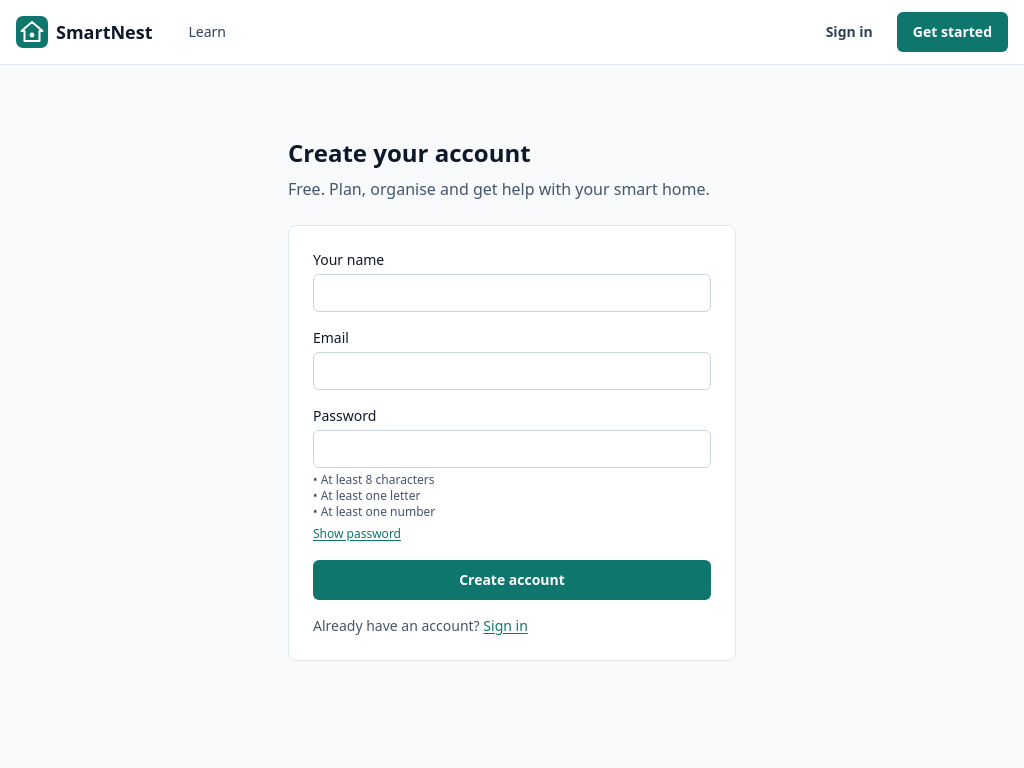
Test: sign up › validates the password rules live and on submit
Type "Asha" into the field labelled "Your name" at (512, 293), box [313,274,711,312]
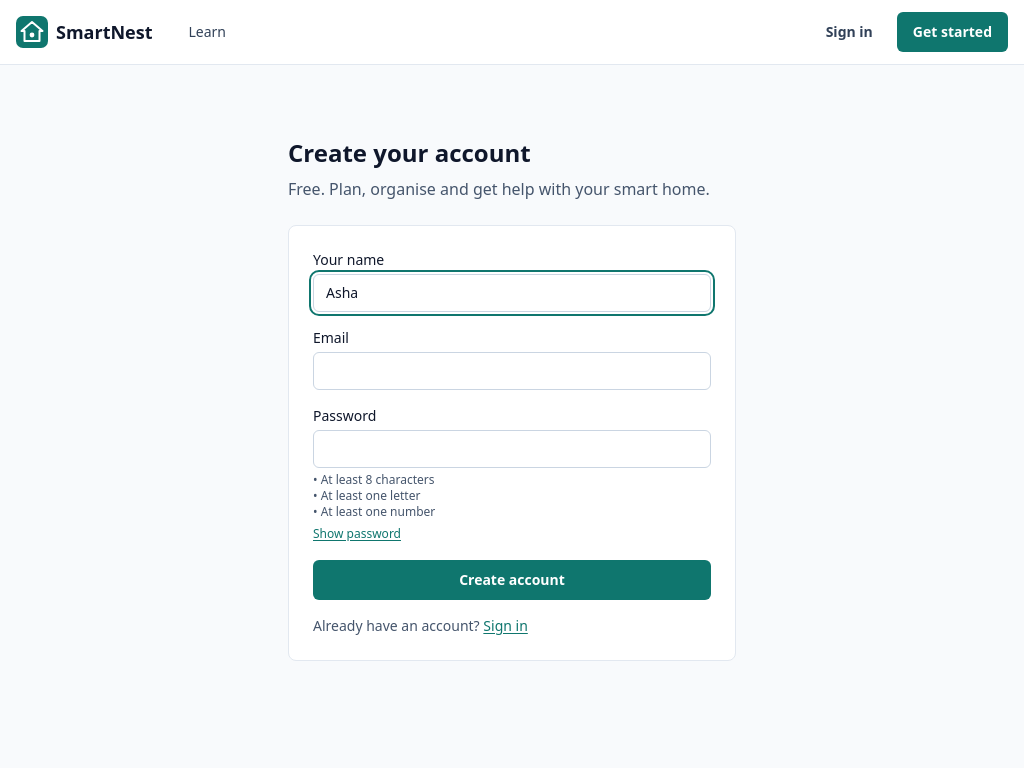
Type "asha@example.com" into the field labelled "Email" at (512, 371), box [313,352,711,390]
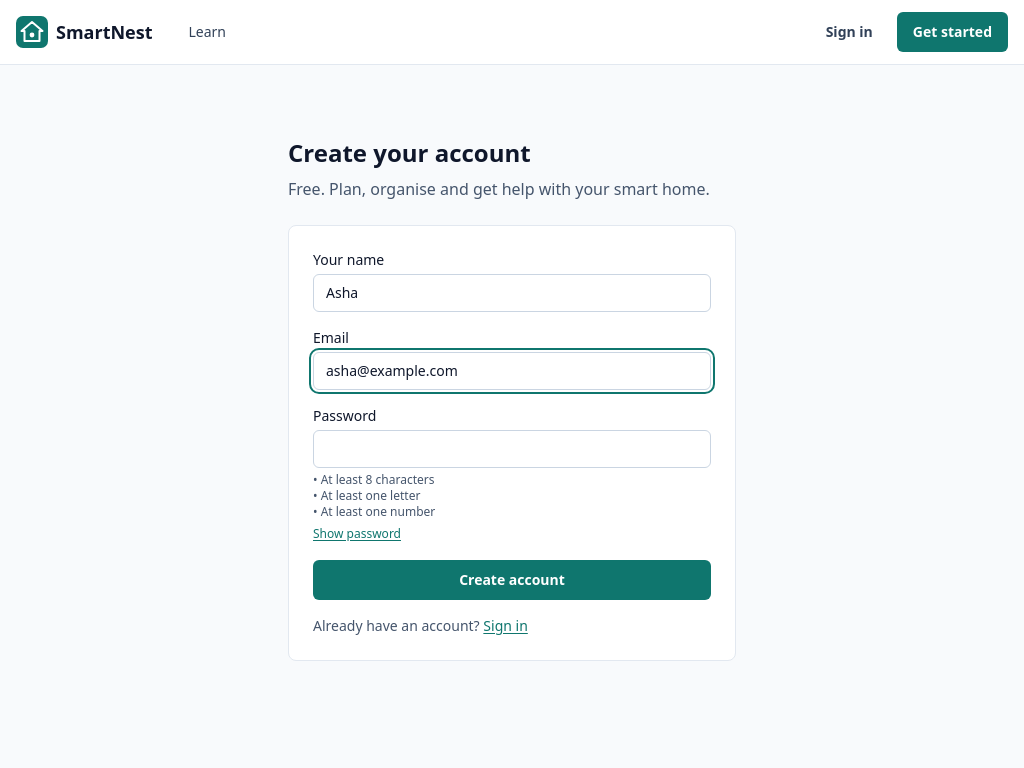
Type "abc" into the password field labelled "Password" at (512, 449), box [313,430,711,468]
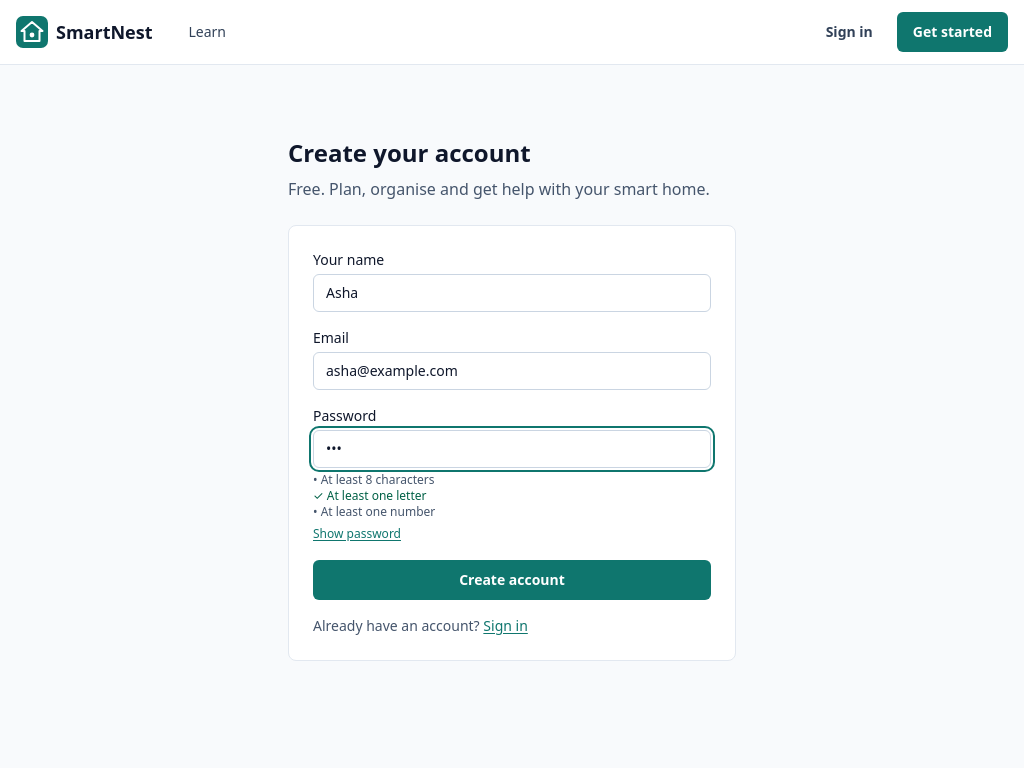
Click the button "Create account" at (512, 580), box [313,560,711,600]
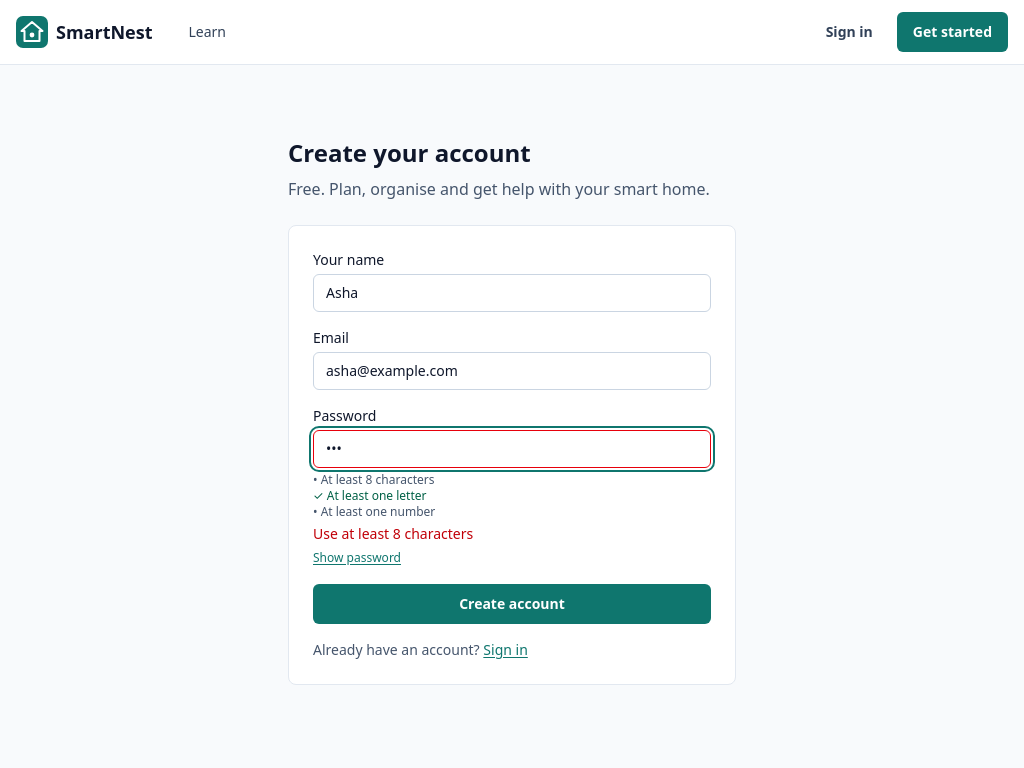
Now the text "Use at least 8 characters" is shown, box [313,524,473,543]
